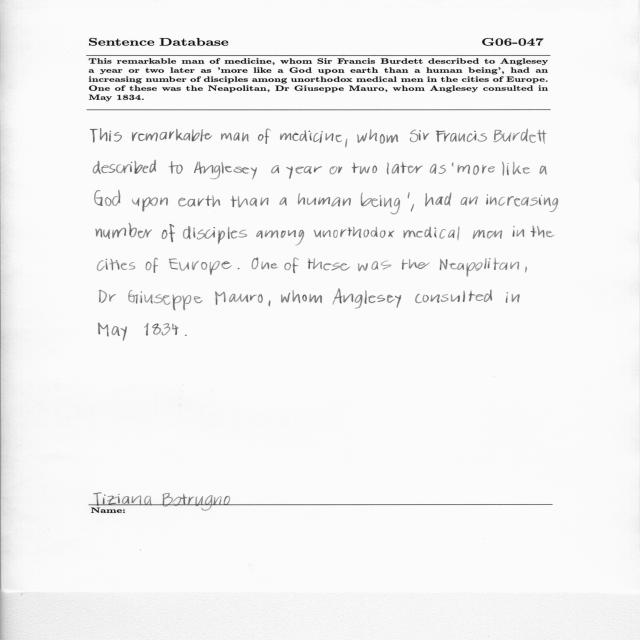word: (440, 258, 519, 277), (128, 290, 203, 310), (333, 289, 401, 309), (486, 194, 559, 212), (183, 226, 247, 244), (194, 162, 257, 180), (415, 290, 492, 304), (169, 258, 232, 275), (132, 129, 212, 141), (96, 223, 152, 239), (314, 227, 395, 238), (93, 160, 156, 174), (493, 128, 547, 144), (361, 193, 400, 214), (280, 130, 342, 143), (403, 227, 460, 241), (298, 193, 351, 207), (256, 230, 304, 245), (215, 291, 263, 305), (357, 129, 398, 144), (436, 130, 487, 142), (308, 258, 351, 271), (132, 197, 168, 212), (281, 290, 322, 303), (98, 323, 127, 341), (178, 195, 220, 207), (98, 258, 136, 271), (90, 128, 122, 143), (286, 166, 322, 179), (231, 196, 269, 208), (387, 162, 423, 174), (502, 161, 530, 176), (144, 323, 179, 335), (95, 190, 121, 206), (457, 165, 495, 175), (425, 193, 451, 207), (358, 261, 391, 272), (531, 225, 555, 238), (252, 258, 278, 270), (402, 259, 430, 270), (352, 162, 377, 174), (221, 132, 249, 142), (473, 230, 502, 239), (410, 130, 429, 143), (162, 224, 175, 242), (284, 258, 299, 273), (100, 290, 117, 303), (168, 161, 183, 174), (258, 129, 270, 144), (146, 258, 158, 273), (430, 164, 446, 174), (506, 292, 520, 303), (461, 197, 478, 206), (513, 226, 525, 237), (330, 166, 343, 174), (539, 165, 547, 175), (279, 197, 287, 206), (271, 165, 279, 173), (411, 204, 414, 212), (345, 139, 347, 148), (408, 192, 410, 199), (525, 267, 527, 273), (269, 301, 271, 307), (452, 163, 454, 167), (238, 268, 240, 269), (185, 335, 187, 336)
